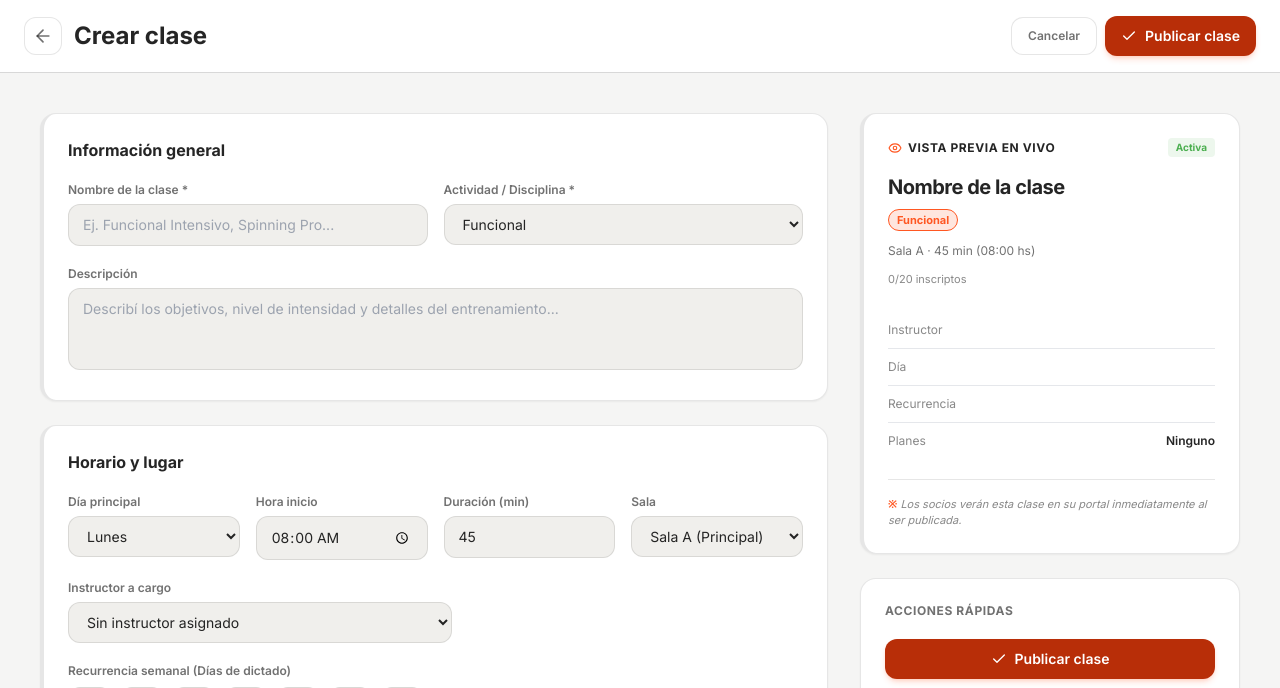
CreateClassPage › live preview reflects nombre changes in real time
Type "Pilates Pro" into the field with placeholder "Ej. Funcional Intensivo, Spinning Pro...".
click(248, 225); type("Pilates Pro")  # box x1=68 y1=204 x2=428 y2=246
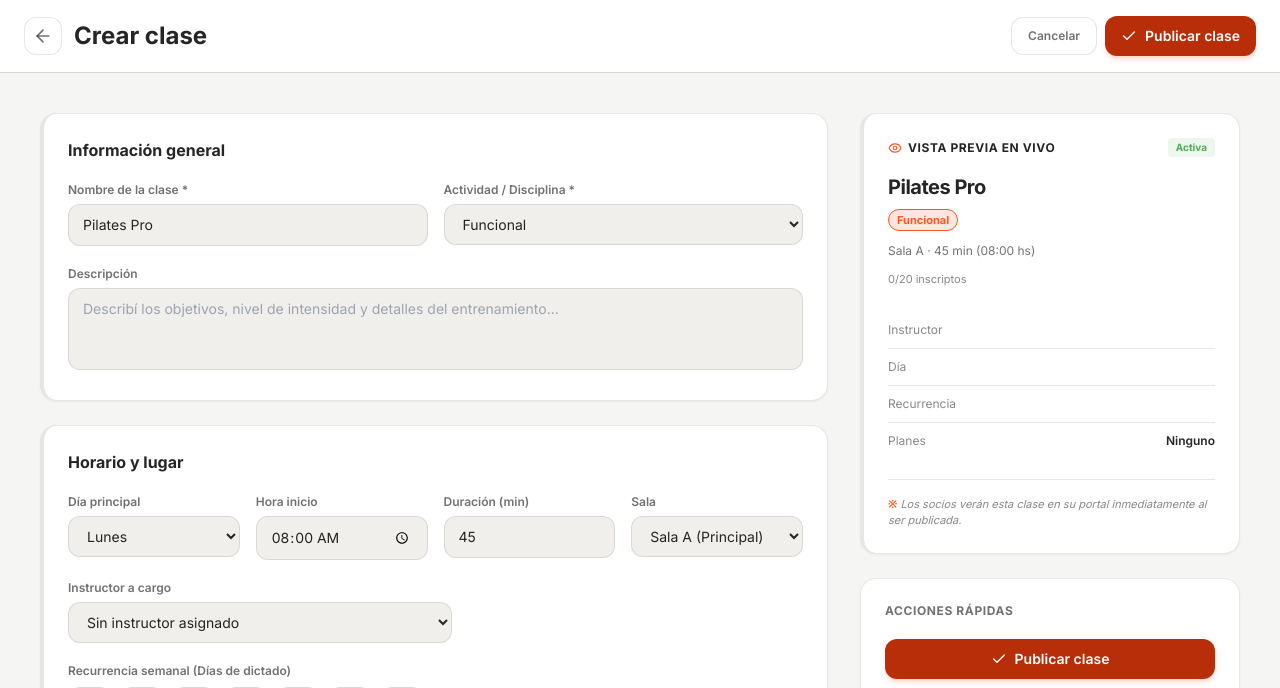
Now the heading "Pilates Pro" is shown, box x1=888 y1=175 x2=986 y2=199
